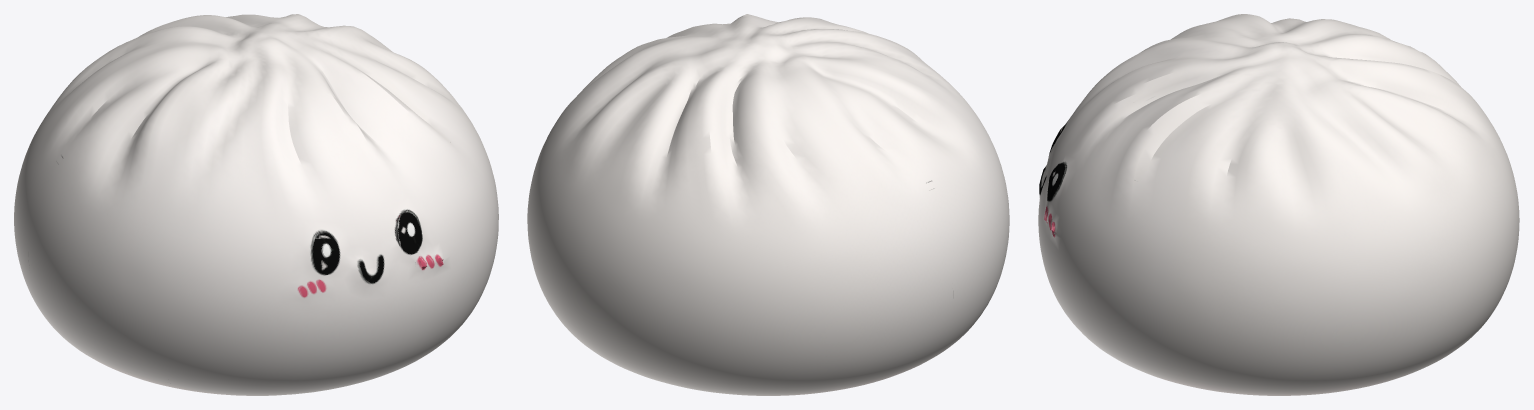
The model's file is Meshy_AI_Giant_Dumpling_0823111430_image-to-3d-texture.obj.
3 views of the same model, side by side, from view 1: azimuth 30°, elevation 25°; view 2: azimuth 150°, elevation 25°; view 3: azimuth 270°, elevation 25° (orthographic).
Visible parts, largest first — view 1: Meshy_AI_Giant_Dumpling_0823111430_image-to-3d-texture; view 2: Meshy_AI_Giant_Dumpling_0823111430_image-to-3d-texture; view 3: Meshy_AI_Giant_Dumpling_0823111430_image-to-3d-texture.
Part boxes in pixels (x1=…): Meshy_AI_Giant_Dumpling_0823111430_image-to-3d-texture: x1=14, y1=14, x2=498, y2=395; Meshy_AI_Giant_Dumpling_0823111430_image-to-3d-texture: x1=527, y1=14, x2=1009, y2=395; Meshy_AI_Giant_Dumpling_0823111430_image-to-3d-texture: x1=1038, y1=14, x2=1519, y2=395.
Bounding box in the file's own units: 1.9 × 1.26 × 1.9.
Materials: 1 (1 with a texture image).
